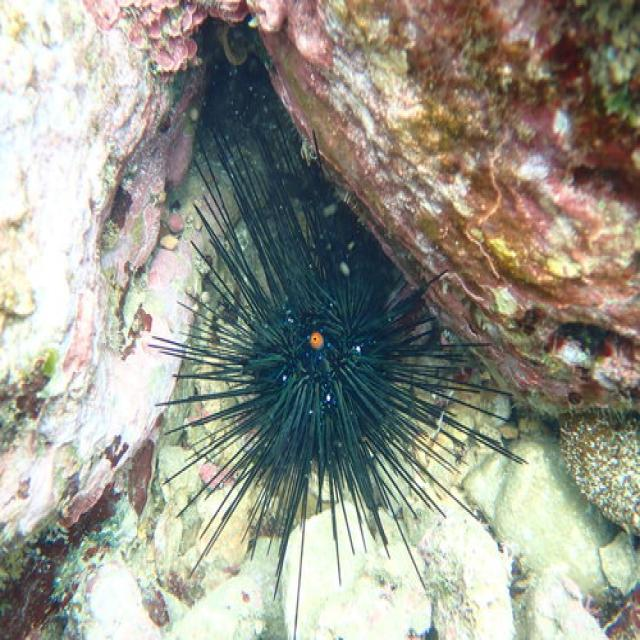Urchin: (143, 121, 530, 599)
